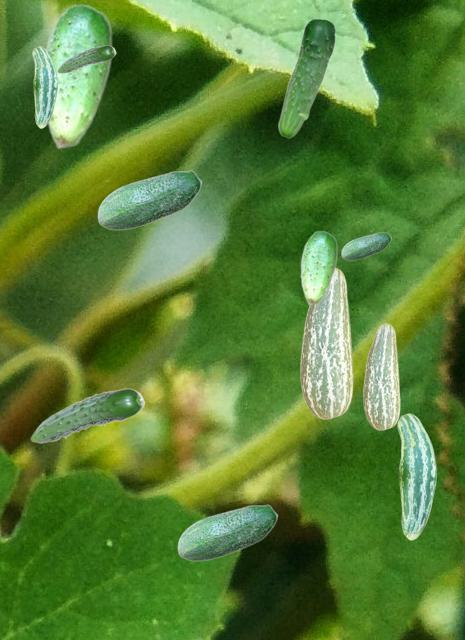cucumber: (43, 3, 111, 148), (300, 268, 352, 418), (277, 18, 335, 137), (30, 388, 144, 442), (97, 170, 201, 229), (177, 504, 277, 560), (397, 413, 435, 539), (363, 323, 399, 429), (300, 230, 336, 304), (32, 46, 56, 127), (57, 45, 115, 72), (341, 232, 390, 259)
